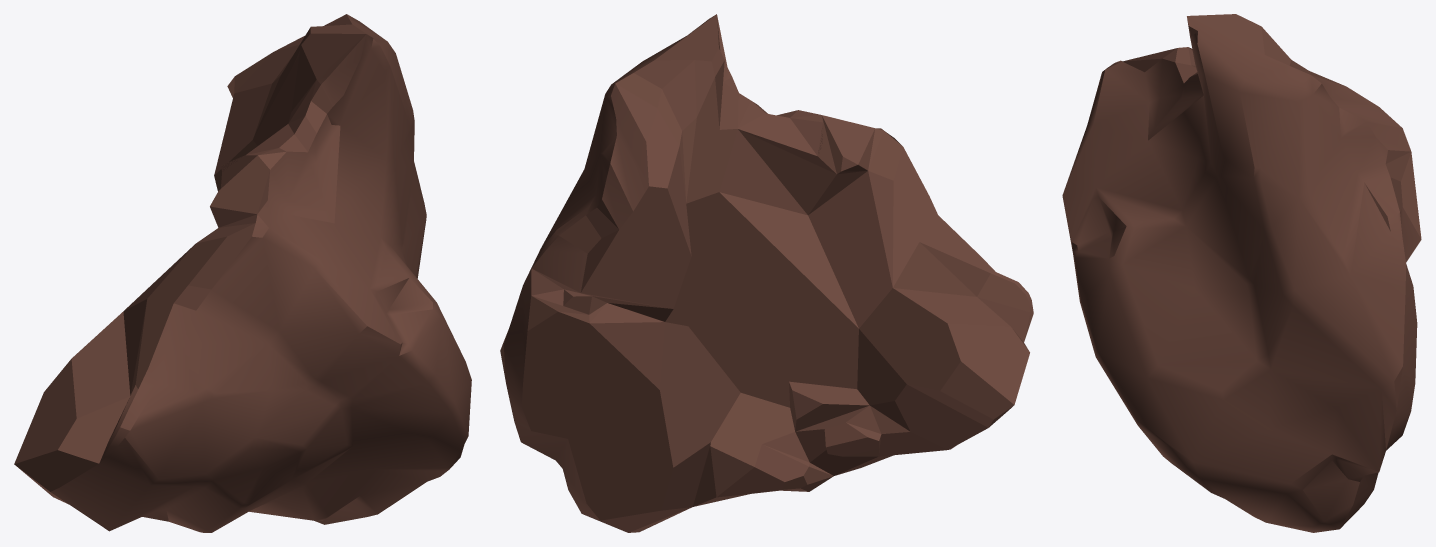
File: p_mesh_hvs_stalagmite_large02_destruction_part06.fbx
3 renders of one model, left to right at view 1: azimuth 30°, elevation 25°; view 2: azimuth 150°, elevation 25°; view 3: azimuth 270°, elevation 25°, orthographic. The views are drawn at different scales.
Visible parts, largest first — view 1: p_large02_part6; view 2: p_large02_part6; view 3: p_large02_part6.
Part boxes in pixels (x1,y1,x2,y2): p_large02_part6: [14, 14, 471, 532]; p_large02_part6: [500, 14, 1033, 532]; p_large02_part6: [1062, 14, 1421, 532].
Size of the model in its own units: 8.28 by 9.02 by 5.84.
